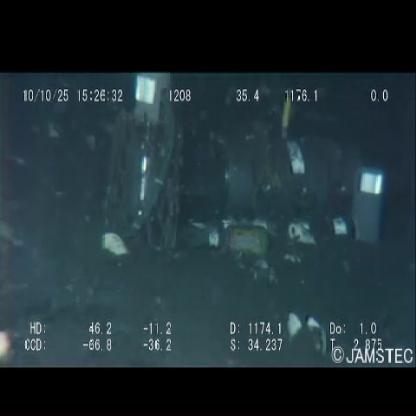Rov: (101, 74, 390, 248)
Rác: (206, 223, 270, 254)
